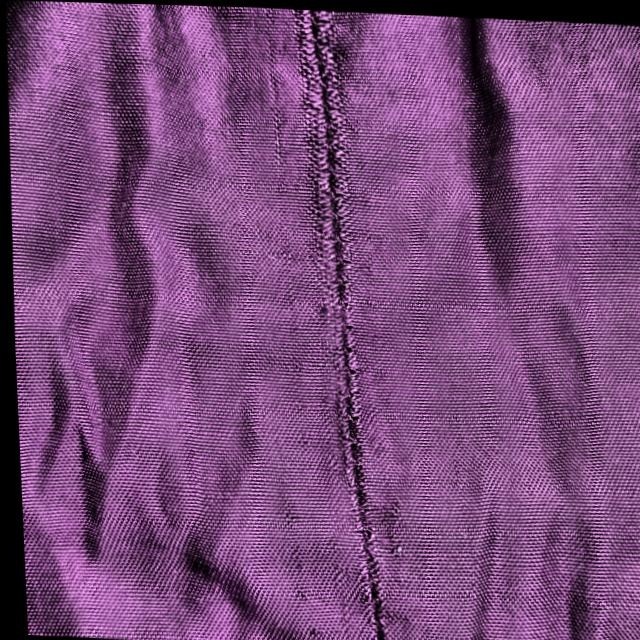seam: (265, 6, 399, 523), (288, 28, 394, 638)
